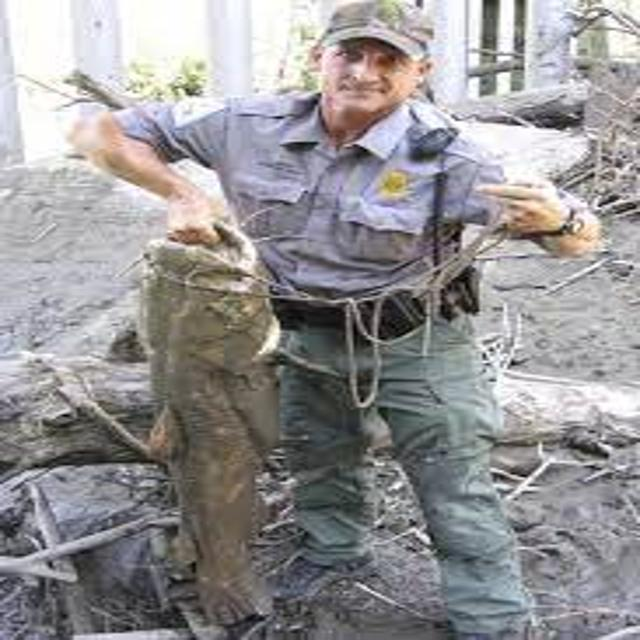ranger: (35, 1, 627, 636)
